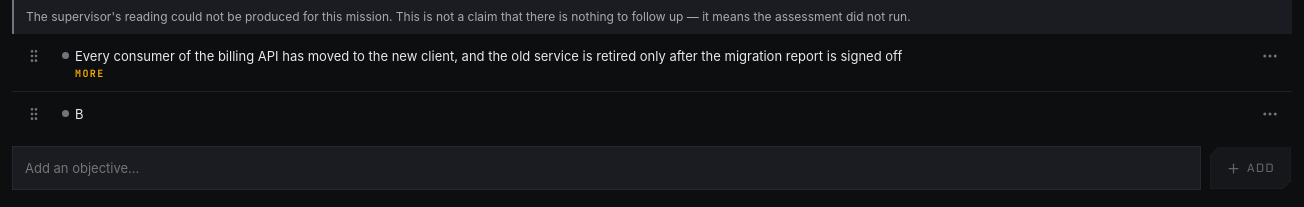
opening a title on an editable row sends nothing
Click the button with test id "objective-title-toggle": [489, 64] box [75,48,902,80]
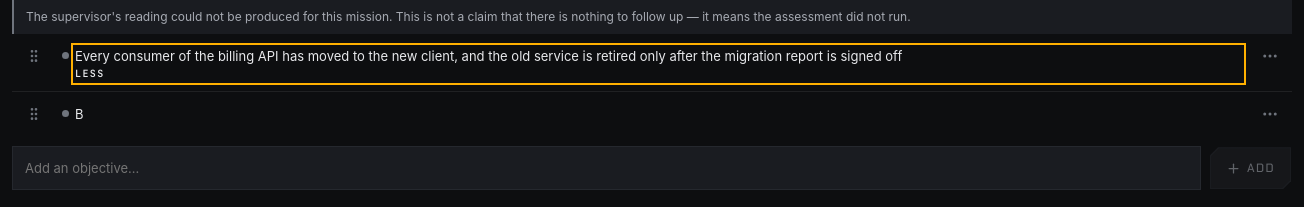
Result: the button with test id "objective-title-toggle" is expanded at [75,48,902,80]
